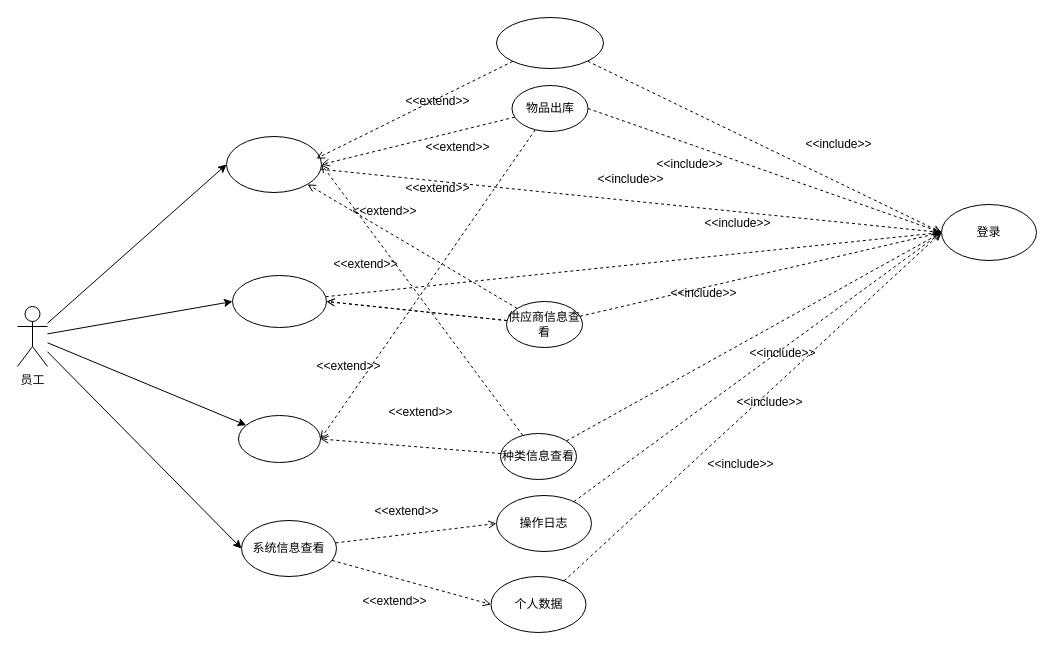
Image size: 1054x650. Some labels were removed from this diagram. Each missing label, with the centre of its shape:
"供应商信息" goes at point 279,301.
"物品入库" goes at point 550,42.
"物品种类信息" goes at point 279,438.
"物品管理" goes at point 274,164.
